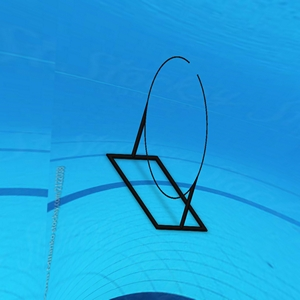circle: (105, 54, 222, 235)
